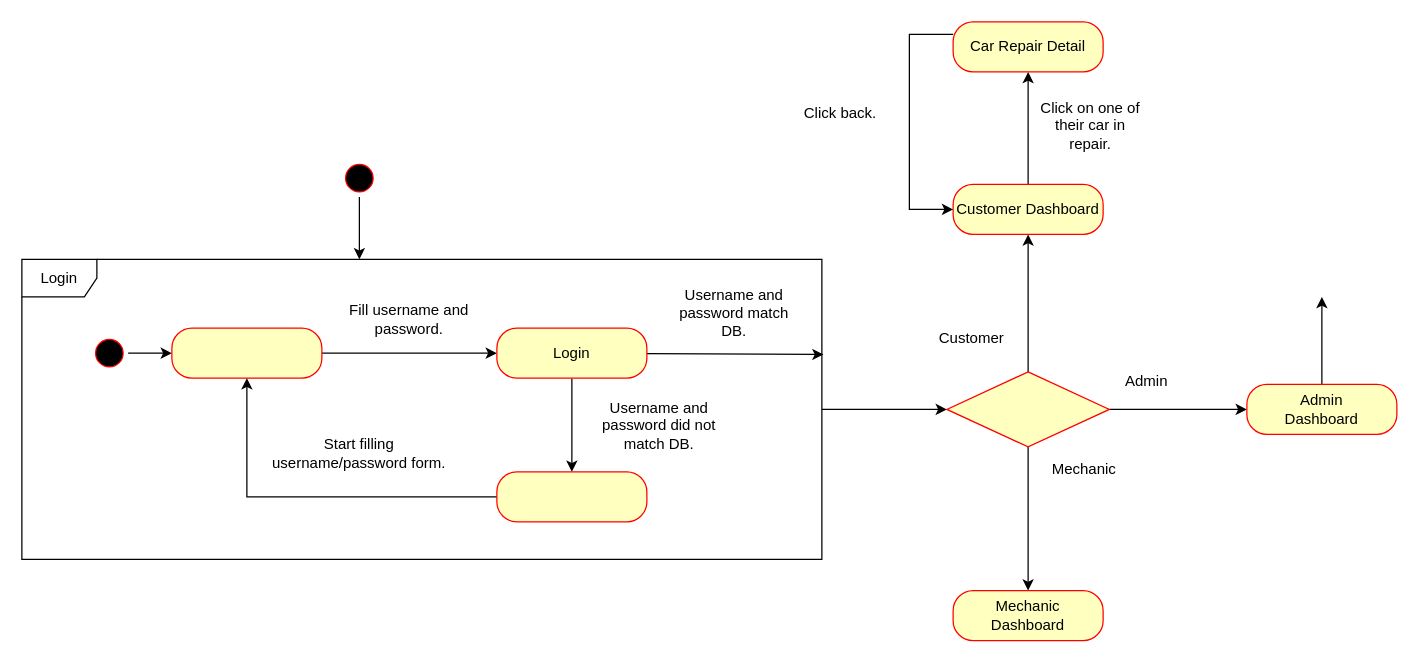
Image size: 1419x663. Some labels were removed from this diagram. The shapes that lost their labels are listed below. From the top down, each one's centre as x and y in pixels, then its label:
At [246,352]: "Initial form".
At [1027,409]: "Role?".
At [571,496]: "Show Failed Sign In".
